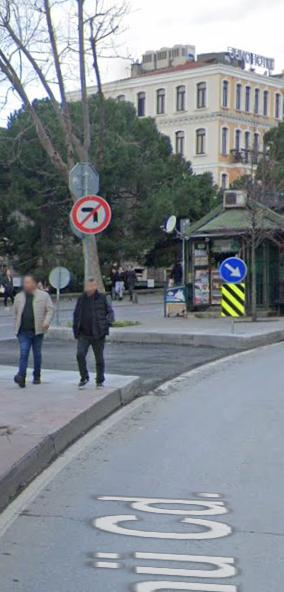leftturnsareforbidden: (73, 197, 111, 234)
